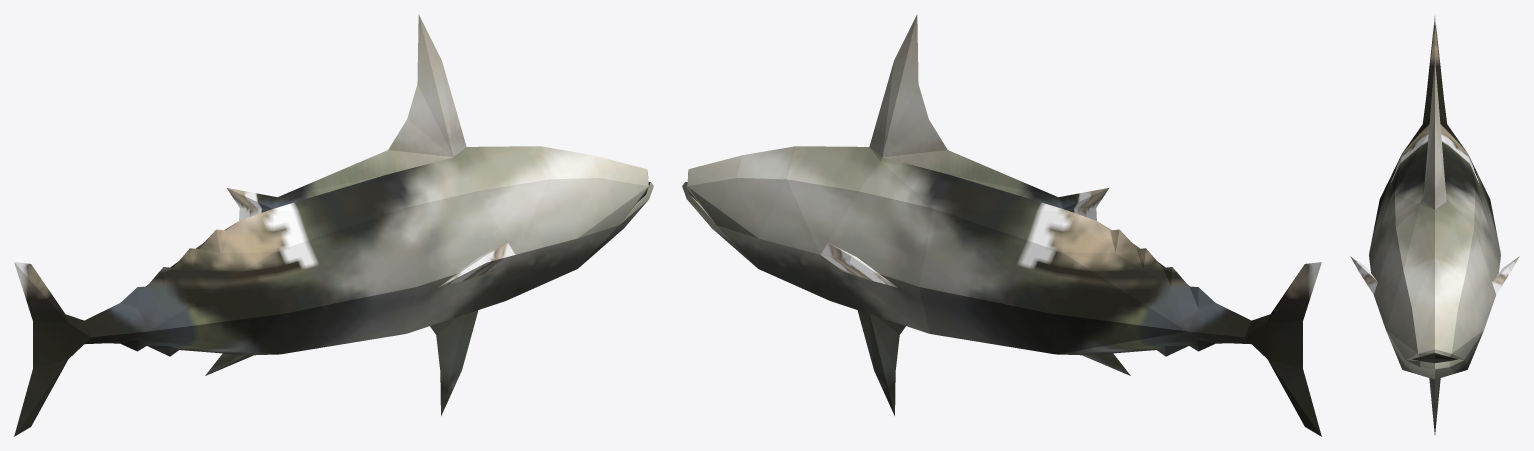
The model's file is Fish6.obj.
3 views of the same model, side by side, from view 1: azimuth 30°, elevation 25°; view 2: azimuth 150°, elevation 25°; view 3: azimuth 270°, elevation 25° (orthographic). The views are drawn at different scales.
Parts seen in each view (by area): view 1: m032_BM_01.002_Mesh.002; view 2: m032_BM_01.002_Mesh.002; view 3: m032_BM_01.002_Mesh.002.
Part boxes in pixels (x1=…): m032_BM_01.002_Mesh.002: x1=14, y1=14, x2=653, y2=436; m032_BM_01.002_Mesh.002: x1=682, y1=14, x2=1321, y2=436; m032_BM_01.002_Mesh.002: x1=1350, y1=16, x2=1519, y2=434.
Bounding box in the file's own units: 3.49 × 2.13 × 0.8844.
Materials: 1 (1 with a texture image).
